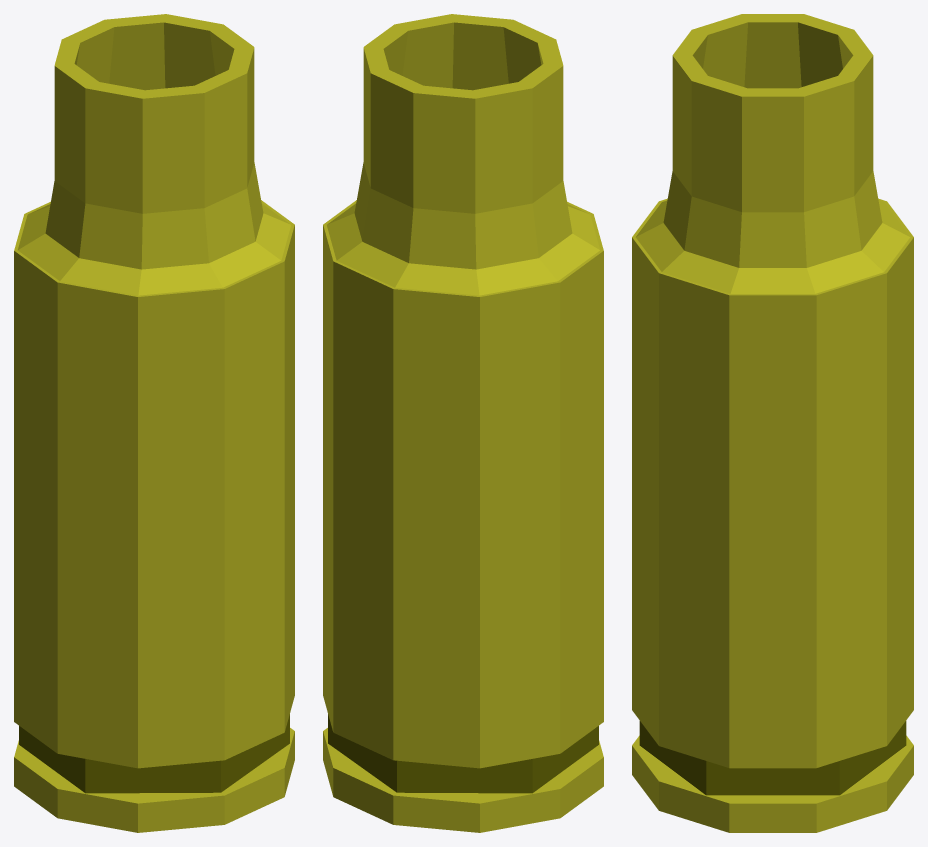
Rendered from MGkarayakkyou.fbx.
3 renders of one model, left to right at view 1: azimuth 30°, elevation 25°; view 2: azimuth 150°, elevation 25°; view 3: azimuth 270°, elevation 25°, orthographic.
Visible parts, largest first — view 1: MGkarayakkyou; view 2: MGkarayakkyou; view 3: MGkarayakkyou.
Part boxes in pixels (x1,y1,x2,y2): MGkarayakkyou: [14, 14, 294, 832]; MGkarayakkyou: [323, 14, 603, 832]; MGkarayakkyou: [632, 14, 913, 832].
Bounding box in the file's own units: 16.19 × 46.74 × 16.6.
